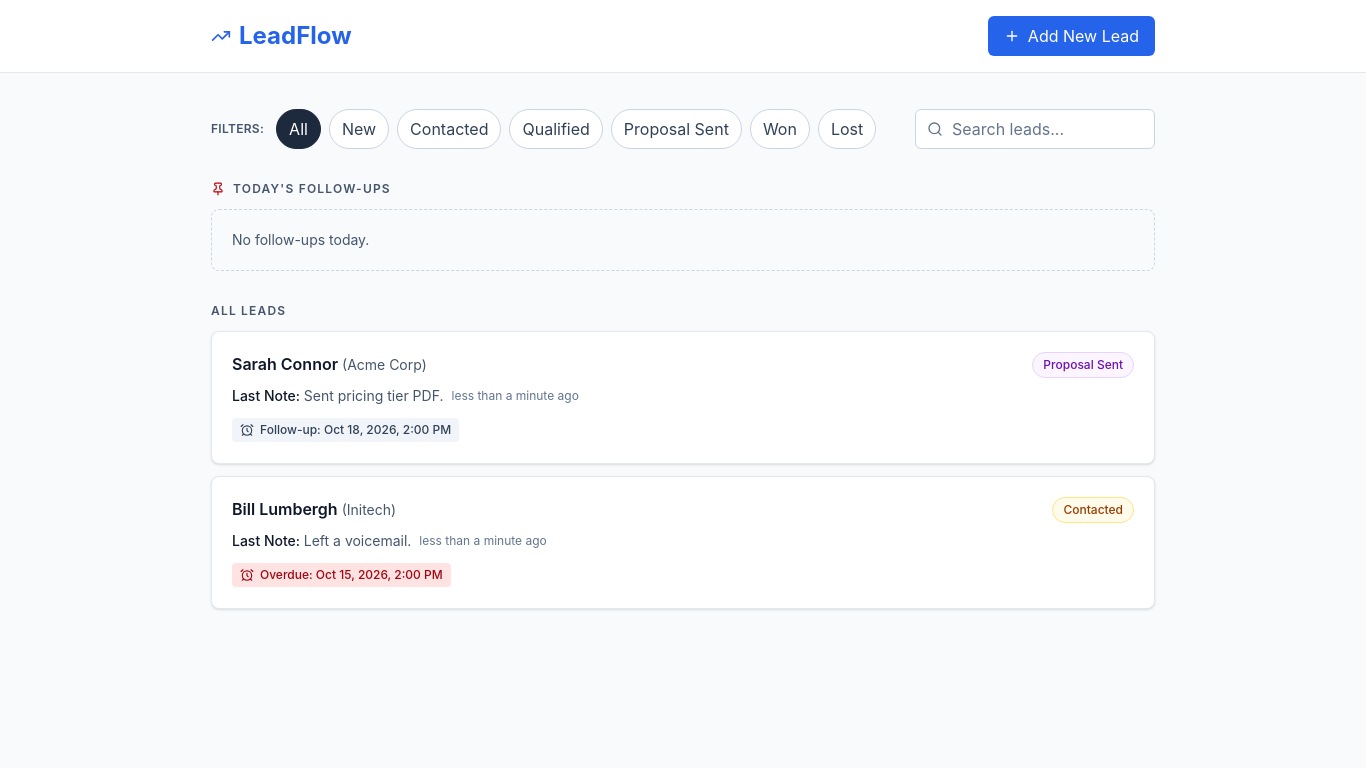
Test case: maps server field errors and prevents a second submission while pending
The image size is (1366, 768).
Click the button "Add New Lead".
click(1071, 36)  # box [988,16,1155,56]
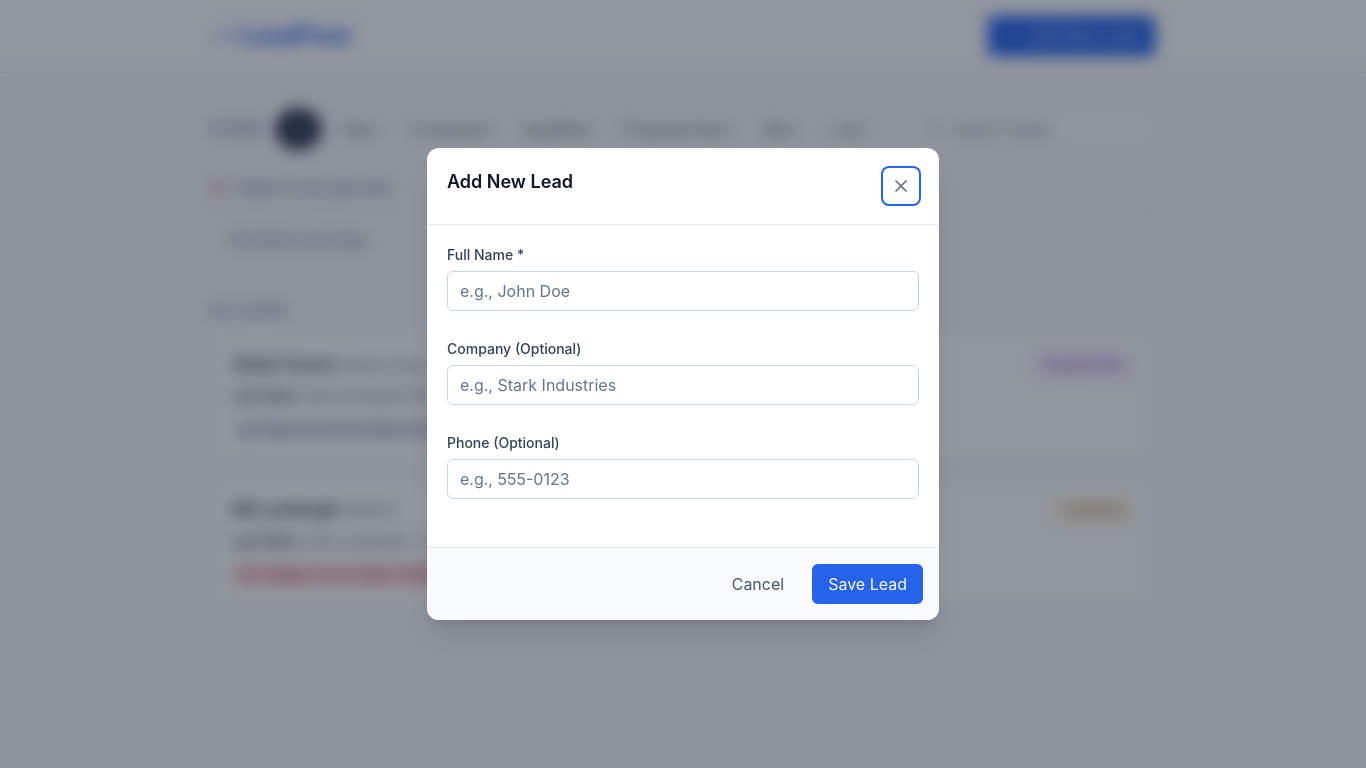
Type "Diana" into the field labelled "Full Name *".
click(683, 291); type("Diana")  # box [447,271,919,311]
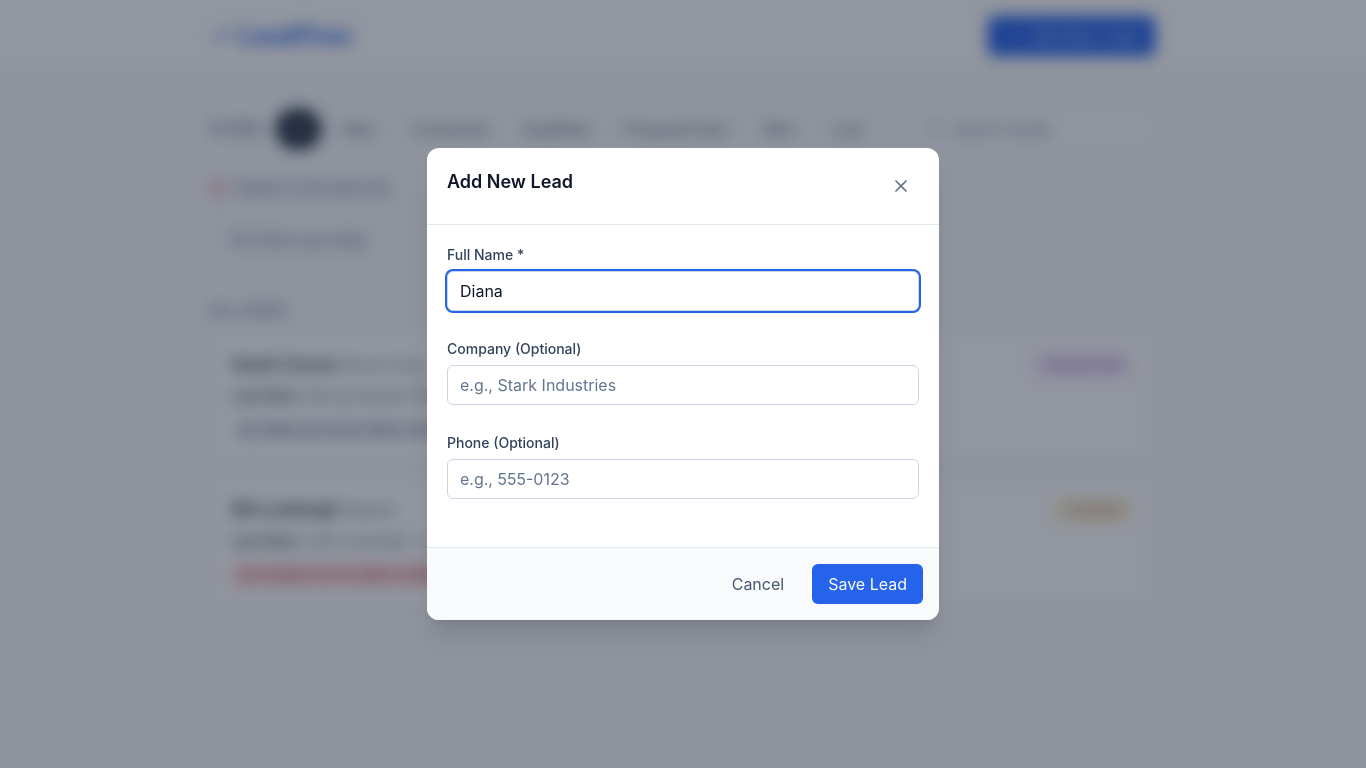
Double-click the button "Save Lead".
double_click(868, 584)  # box [812,564,923,604]
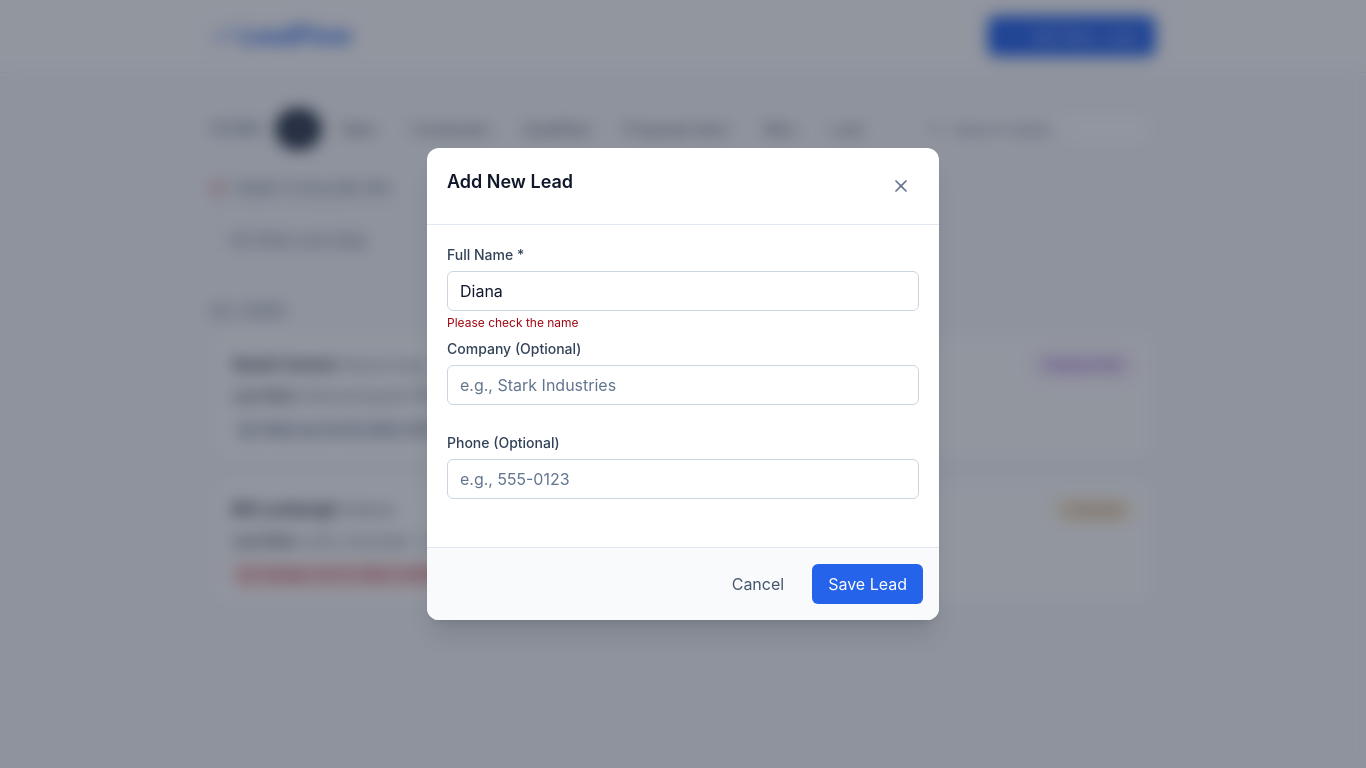
Now the text "Please check the name" is shown, box [447,315,579,330]
